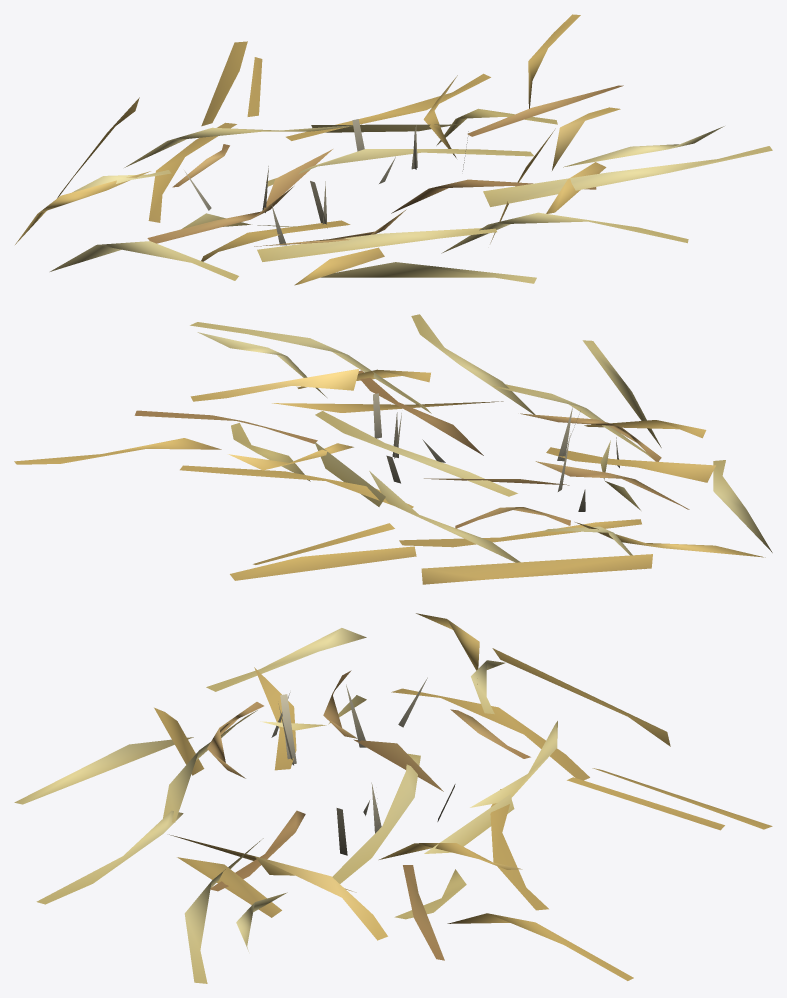
File: BrokenHayPile_LOD0.glb
3 renders of one model, top to bottom at view 1: azimuth 30°, elevation 25°; view 2: azimuth 150°, elevation 25°; view 3: azimuth 270°, elevation 25°, orthographic. The views are drawn at different scales.
Visible parts, largest first — view 1: BrokenHayPile_LOD0; view 2: BrokenHayPile_LOD0; view 3: BrokenHayPile_LOD0.
Part boxes in pixels (bbox=[...]): BrokenHayPile_LOD0: bbox=[15, 14, 772, 285]; BrokenHayPile_LOD0: bbox=[14, 314, 772, 584]; BrokenHayPile_LOD0: bbox=[14, 613, 772, 983].
Size of the model in its own units: 0.3324 by 0.0327 by 0.2842.
